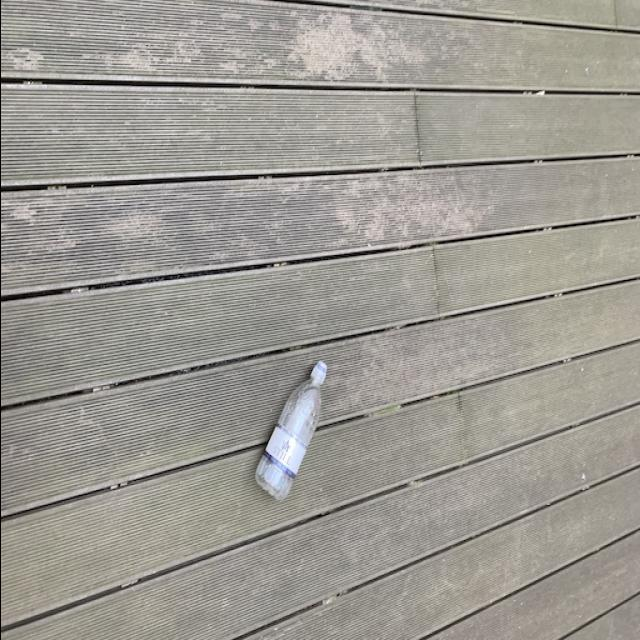litter: (254, 360, 328, 500)
